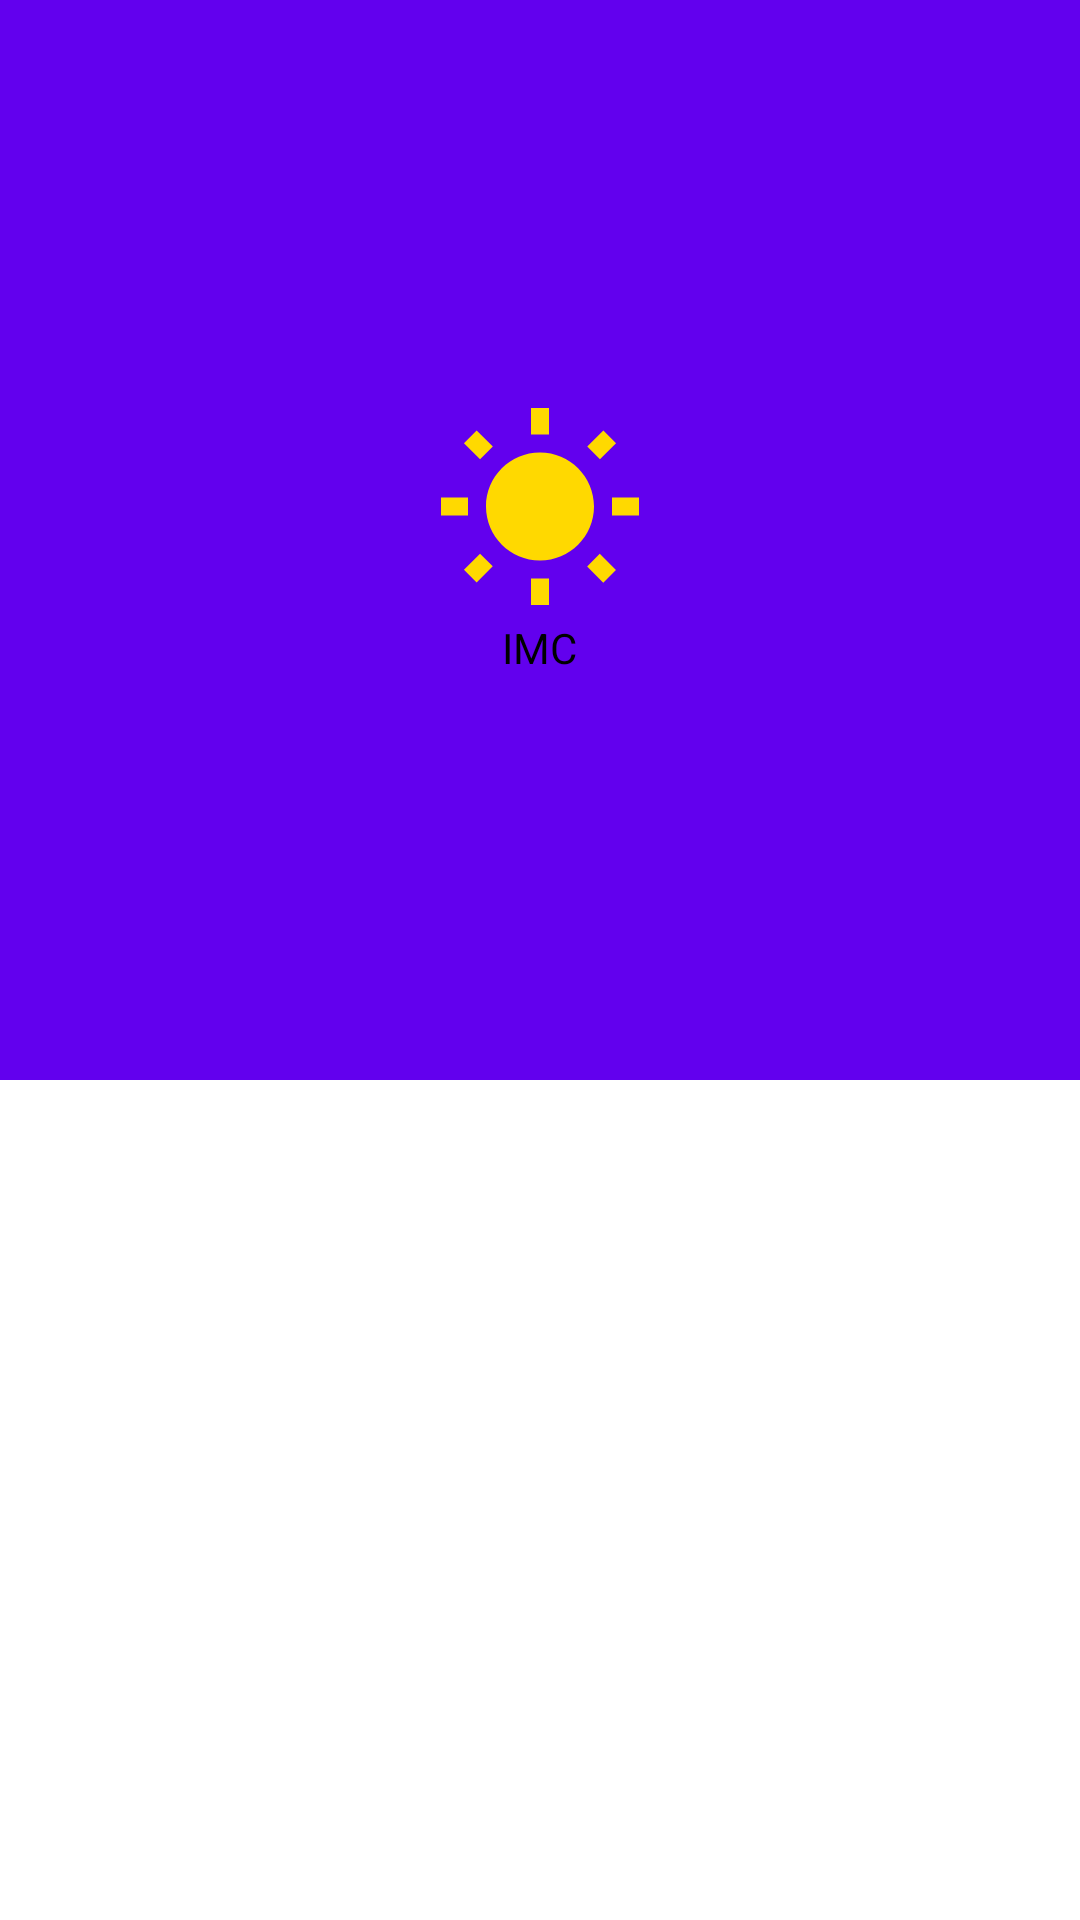

Icon bounding boxes for this 1080px×1920px phone screenshot, format bbox=[x1, y1, x2, y2]:
sunny: bbox=[441, 408, 639, 605]
